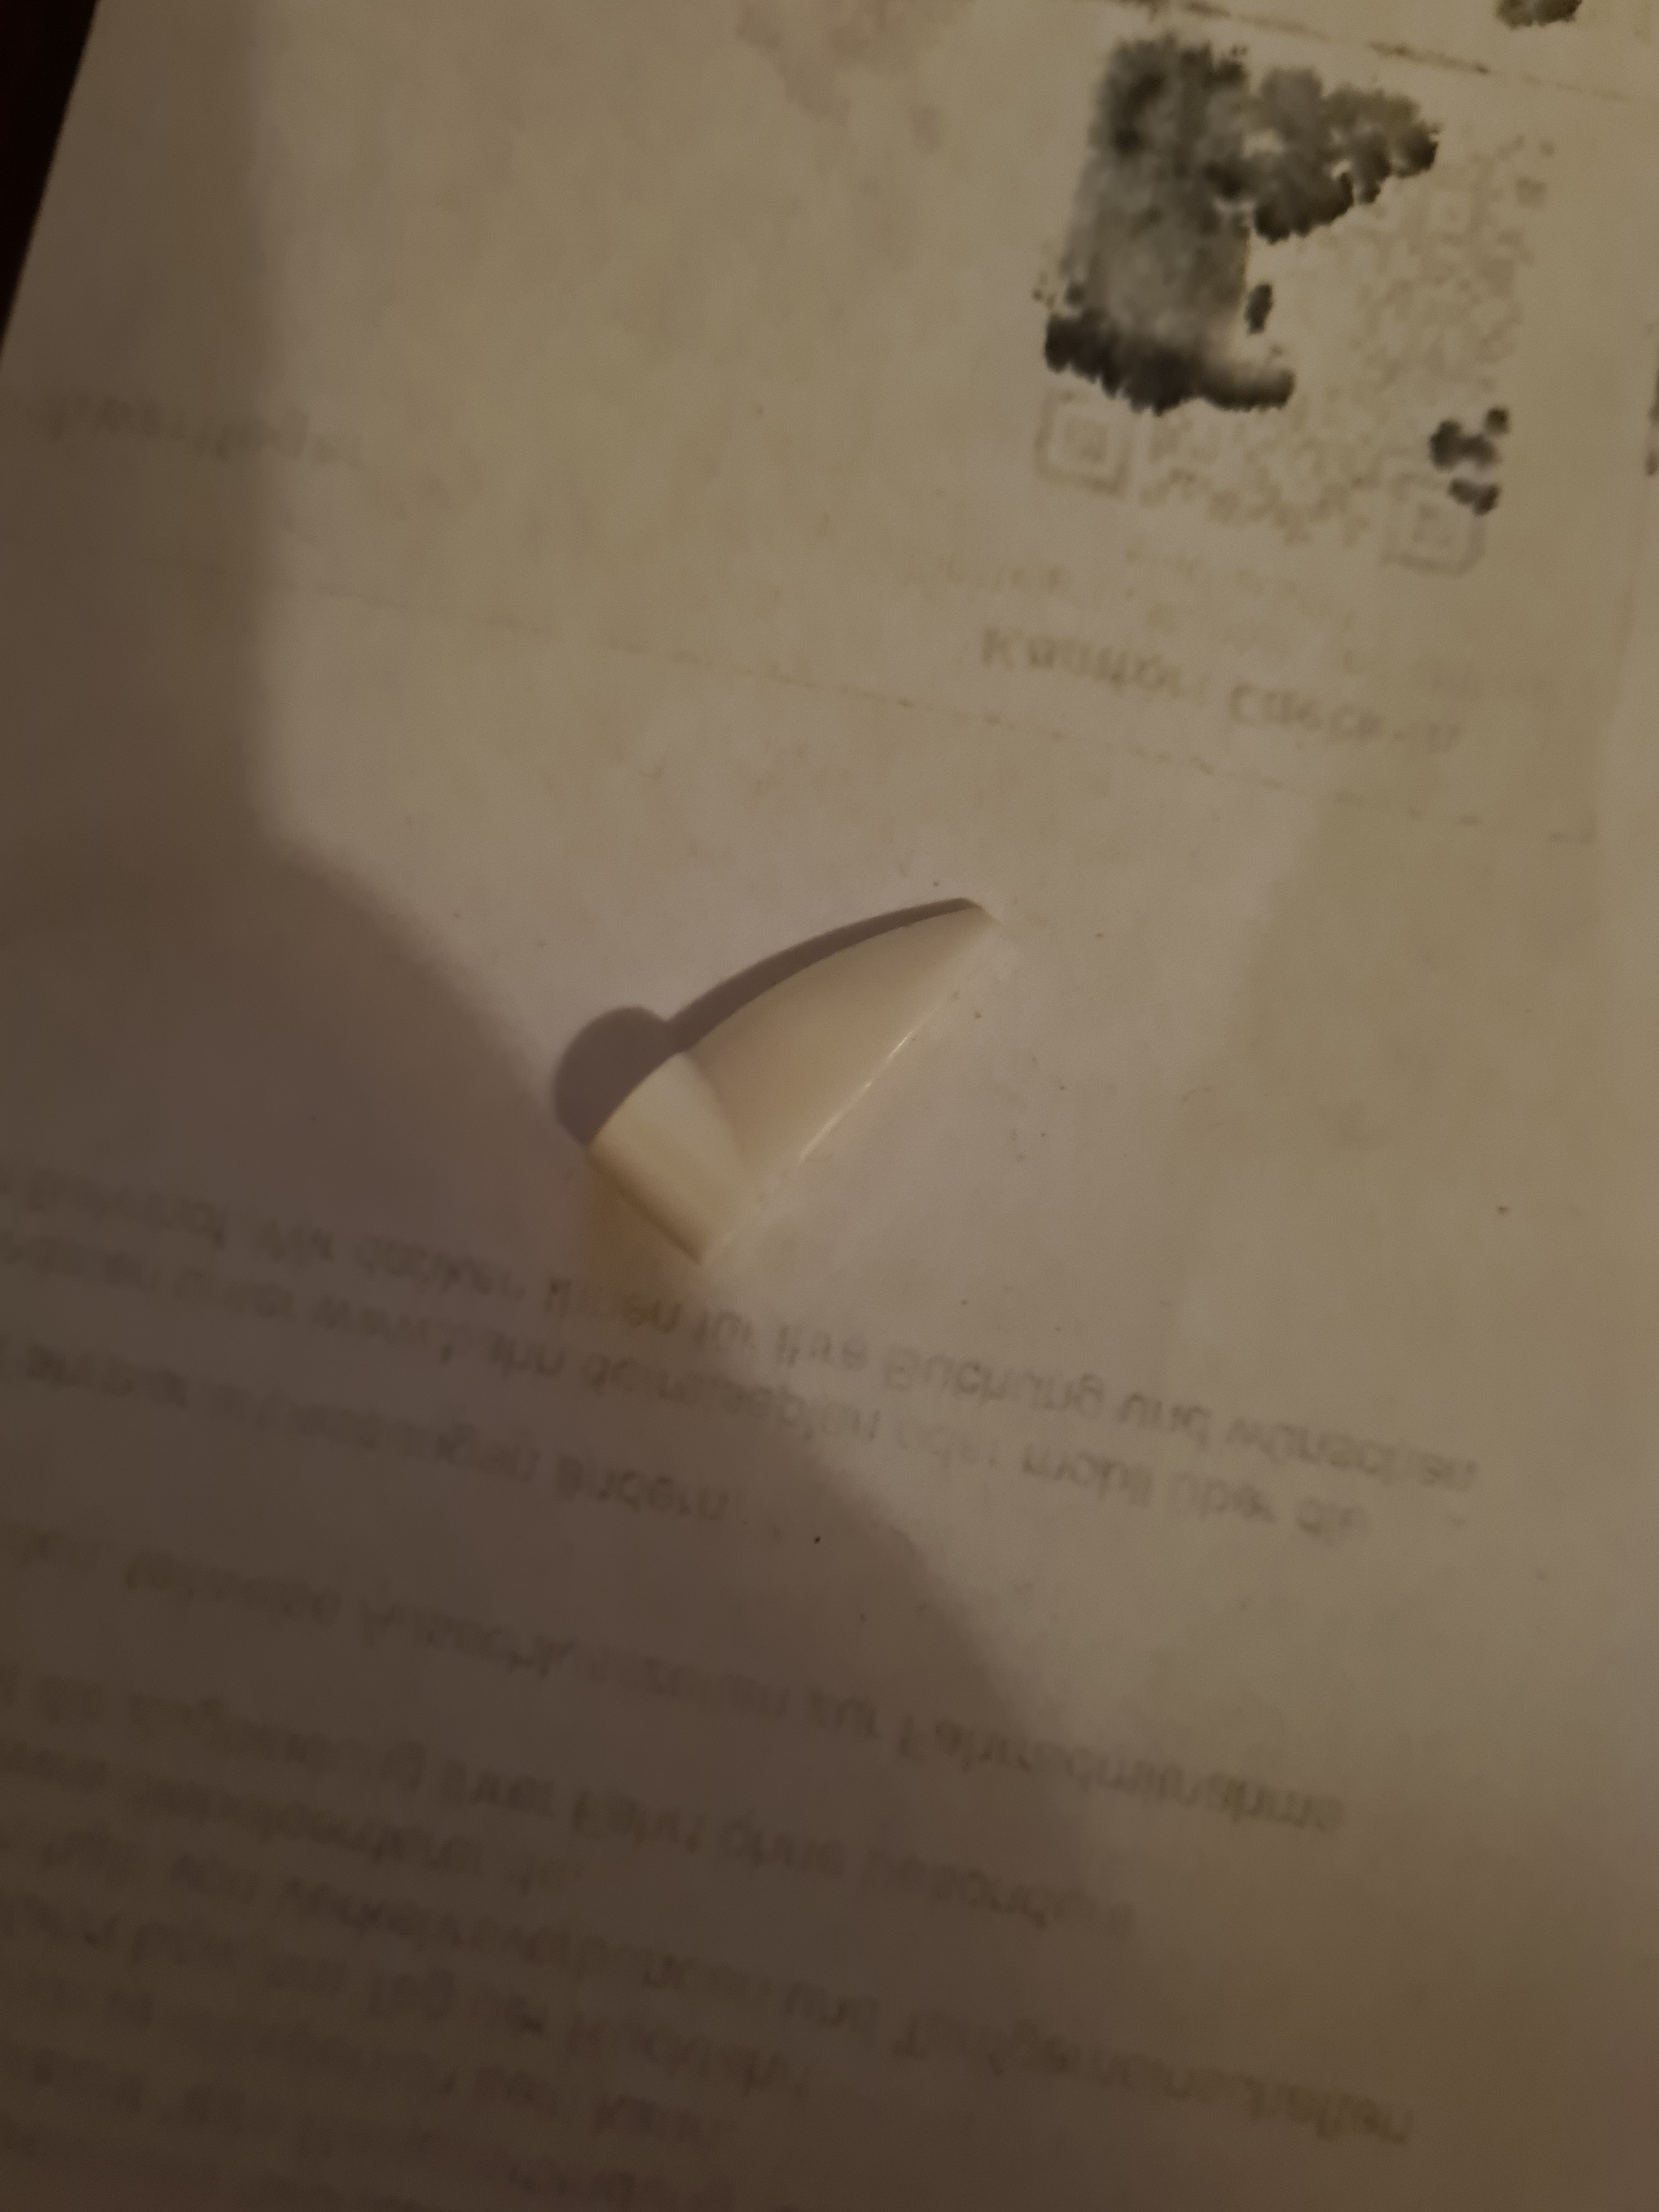Kappe: (589, 911, 1004, 1270)
